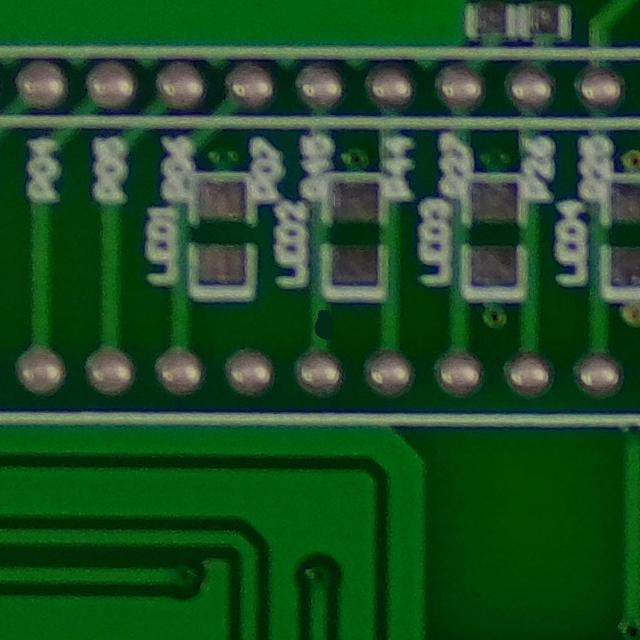mouse_bite: (291, 299, 350, 342)
